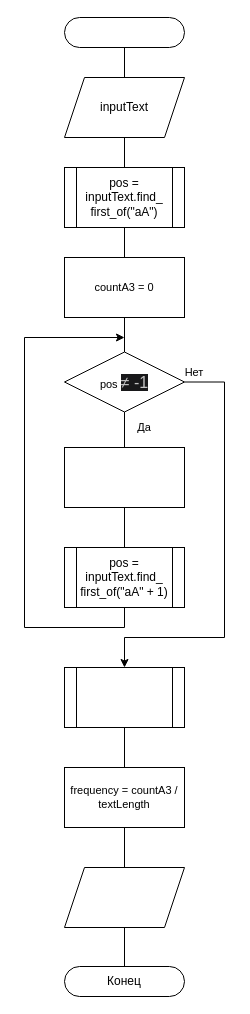
This 250x1014 diagram has some shape labels left out. Each missing label, with the centre of its shape:
"countA3 = countA3 + 1" goes at (x=124, y=477).
"frequency" goes at (x=124, y=897).
"textLength = inputText.size()" goes at (x=124, y=697).
"Начало" goes at (x=124, y=32).
